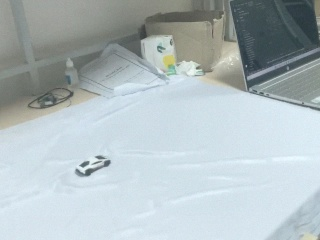bottle: (65, 58, 80, 91)
box: (145, 11, 224, 72)
toy_car: (75, 155, 111, 176)
